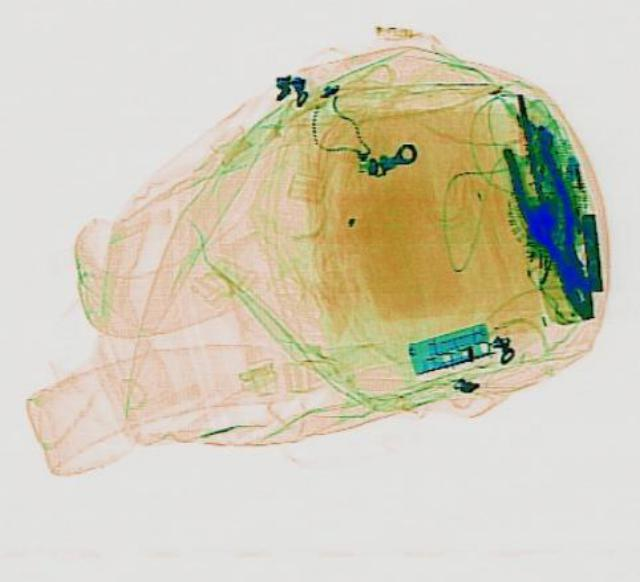Pliers: (490, 121, 612, 323)
